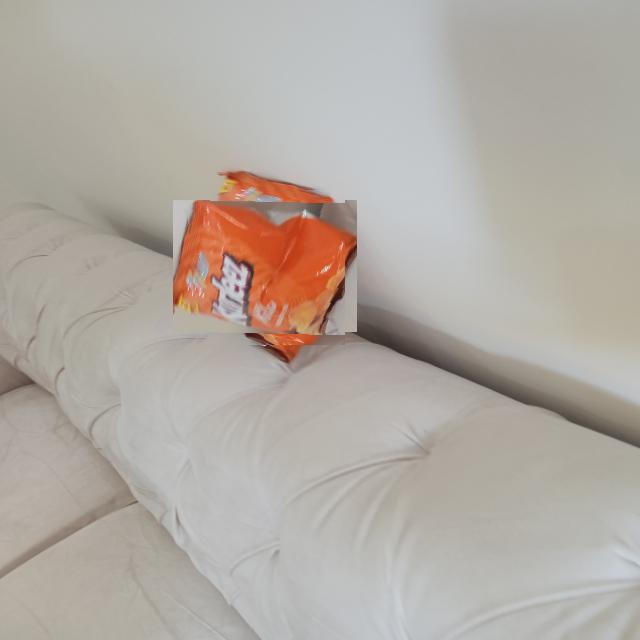Plastic: (186, 187, 345, 345)
